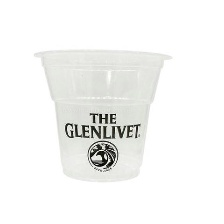glass: (30, 42, 182, 188)
